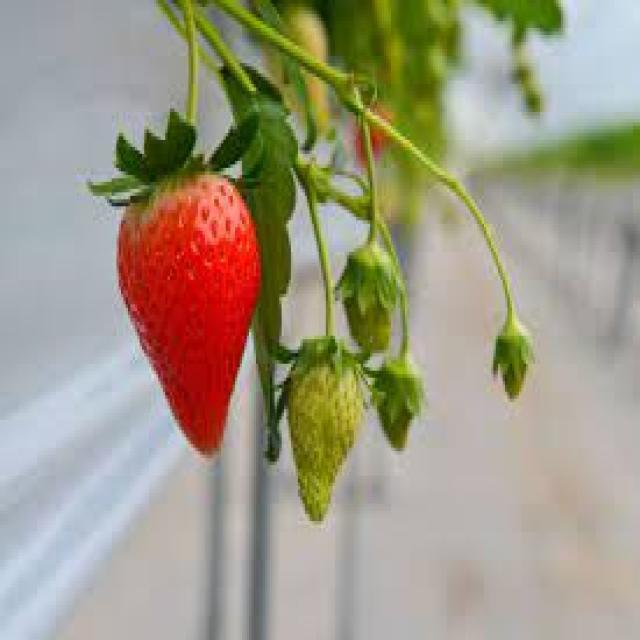ripe: (116, 168, 262, 458)
unripe: (288, 362, 362, 520), (344, 248, 397, 352), (376, 359, 421, 452), (496, 322, 532, 402)
